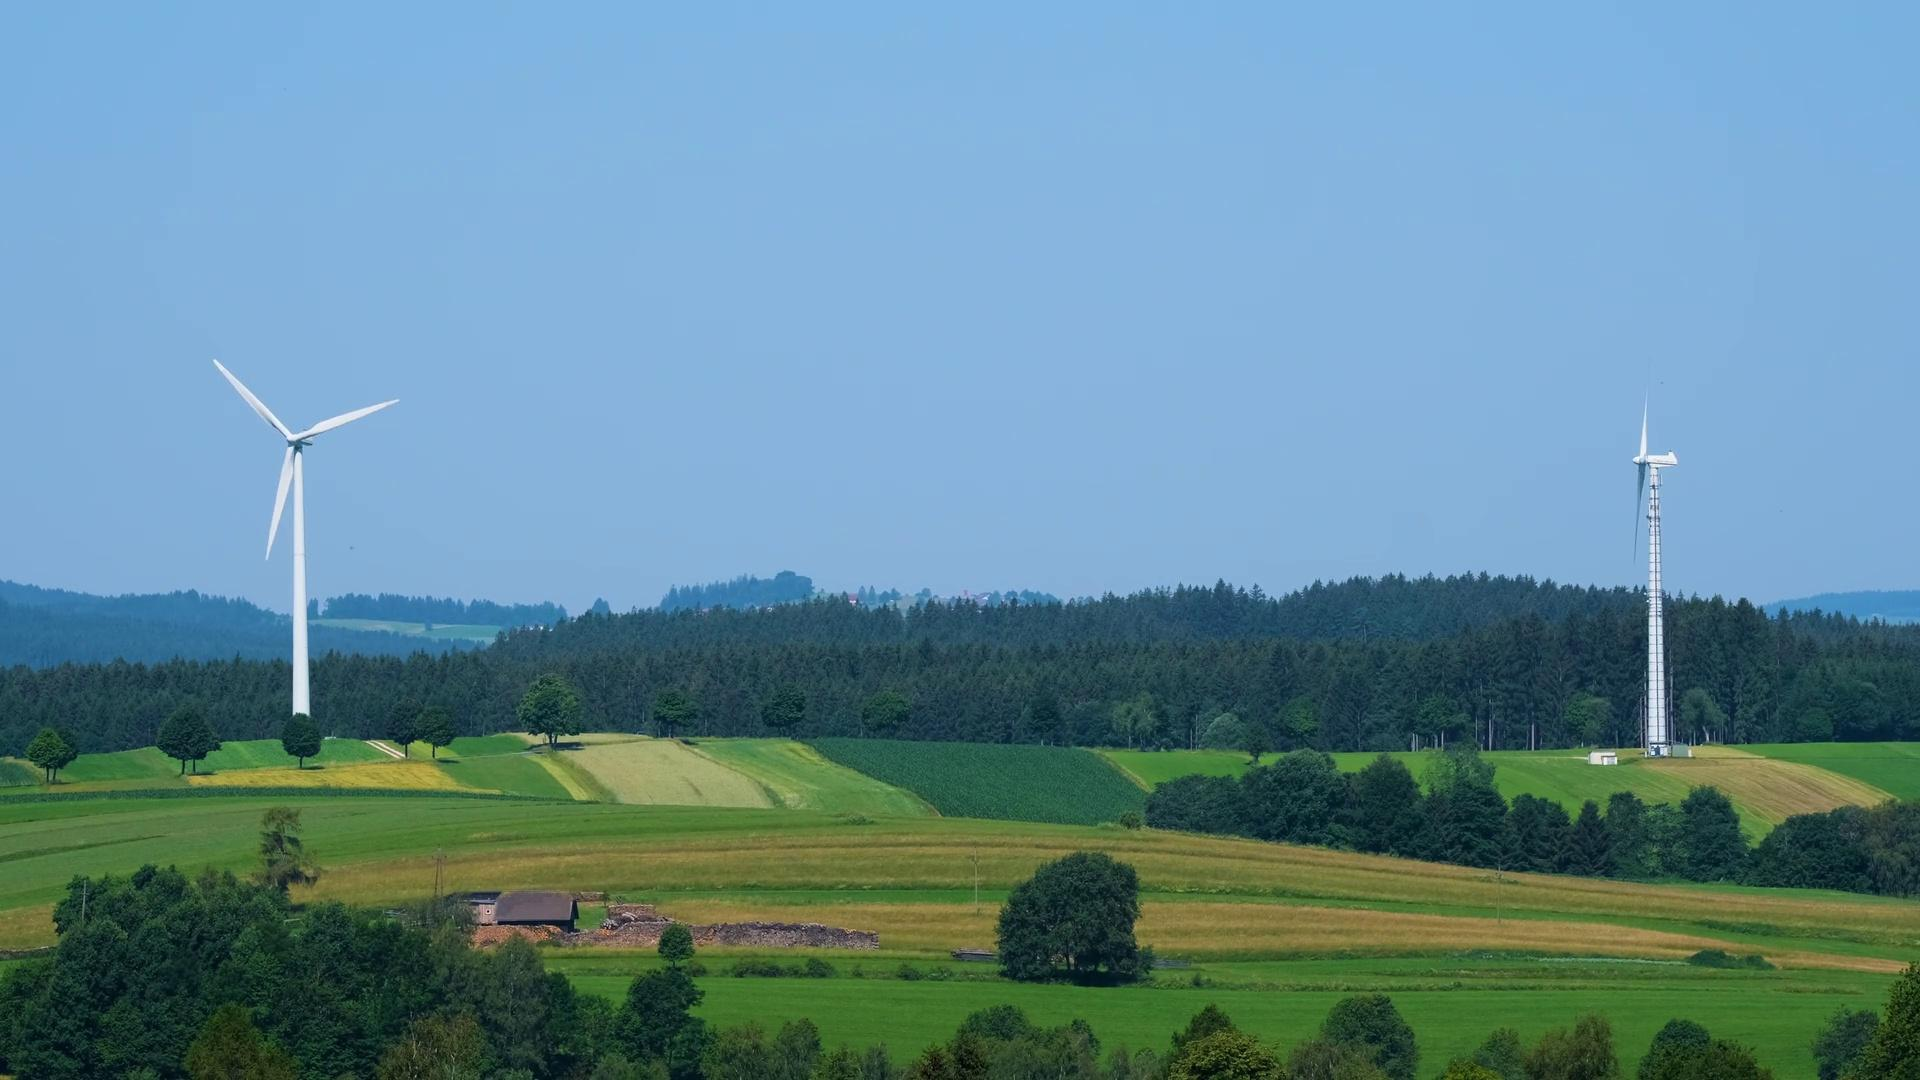turbine: (178, 335, 404, 758), (1564, 397, 1751, 803)
